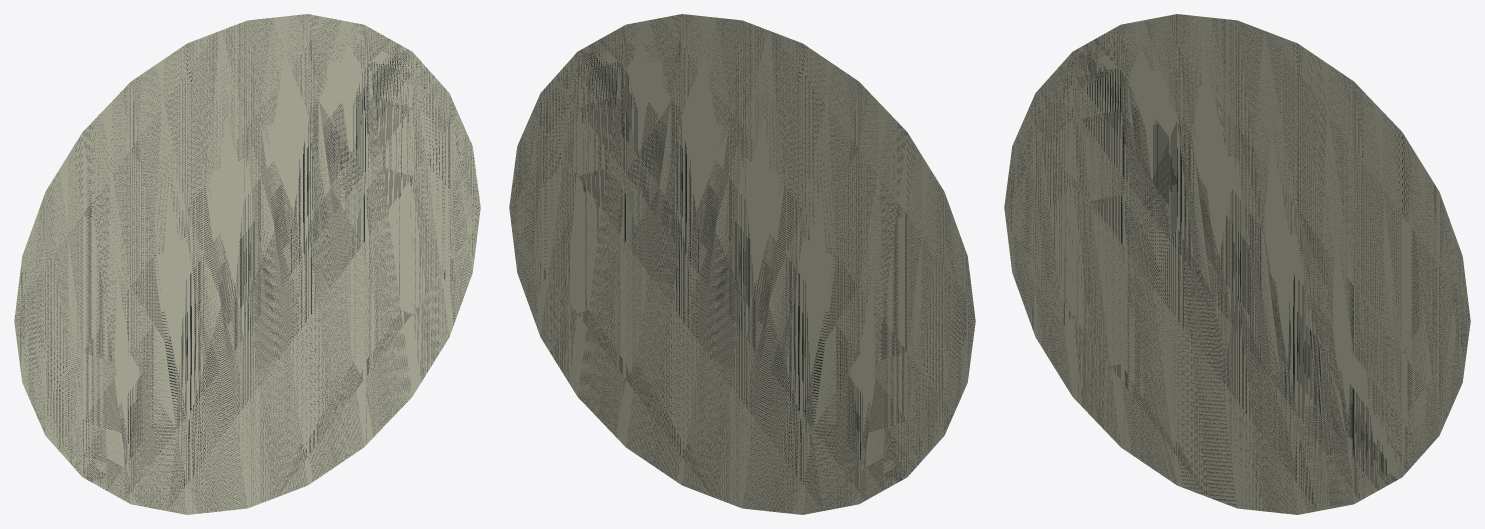
The model's file is original-87.obj.
3 renders of one model, left to right at view 1: azimuth 30°, elevation 25°; view 2: azimuth 150°, elevation 25°; view 3: azimuth 330°, elevation 25°, orthographic.
Parts seen in each view (by area): view 1: mesh67/mesh67-geometry/material_0/component_4#mesh67-geometry; view 2: mesh67/mesh67-geometry/material_0/component_4#mesh67-geometry; view 3: mesh67/mesh67-geometry/material_0/component_4#mesh67-geometry.
Boxes of the visible parts, <box> form: mesh67/mesh67-geometry/material_0/component_4#mesh67-geometry: <box>14,14,480,514</box>; mesh67/mesh67-geometry/material_0/component_4#mesh67-geometry: <box>509,14,975,514</box>; mesh67/mesh67-geometry/material_0/component_4#mesh67-geometry: <box>1004,14,1470,514</box>.
Bounding box in the file's own units: 0.0205 × 0.0205 × 0.
